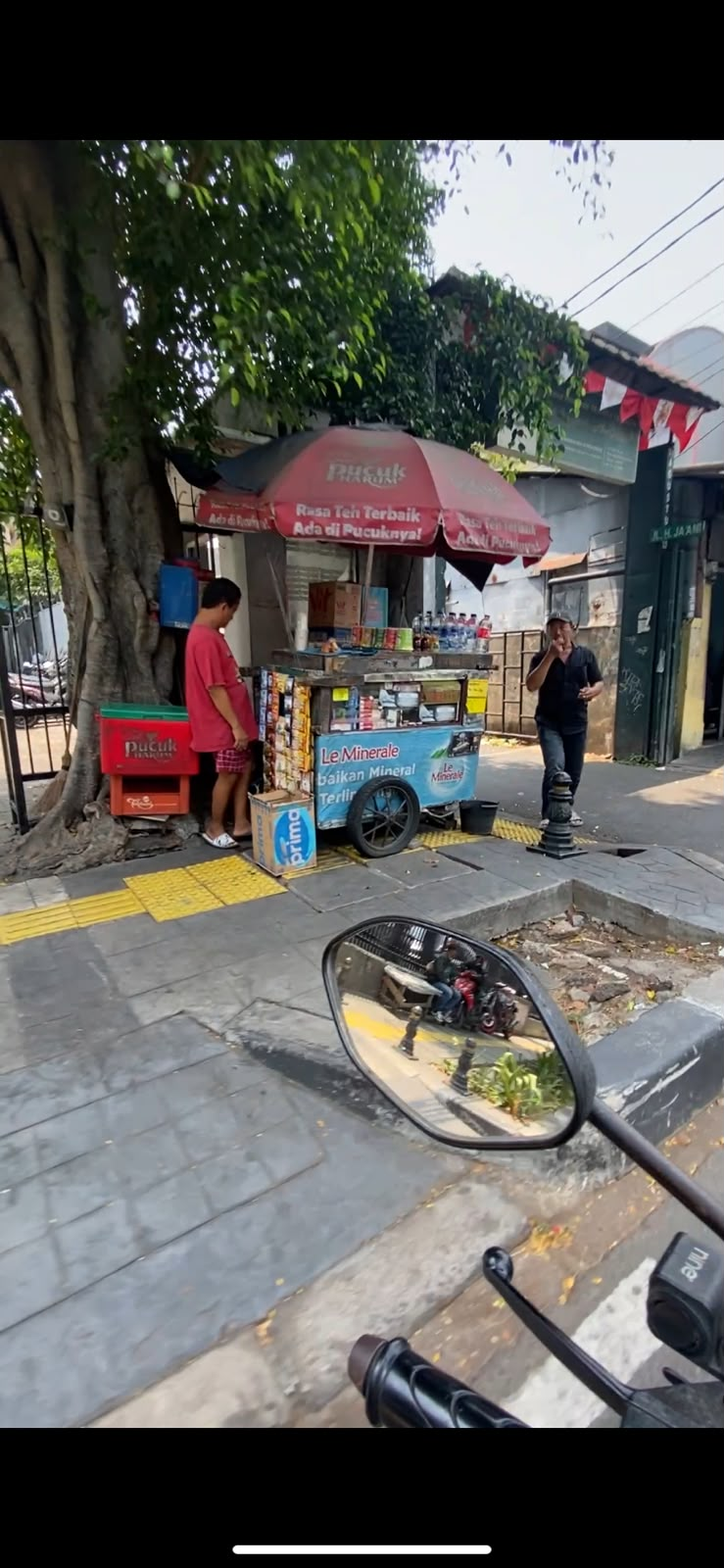gerobak: (200, 424, 549, 858), (449, 751, 450, 1166)
